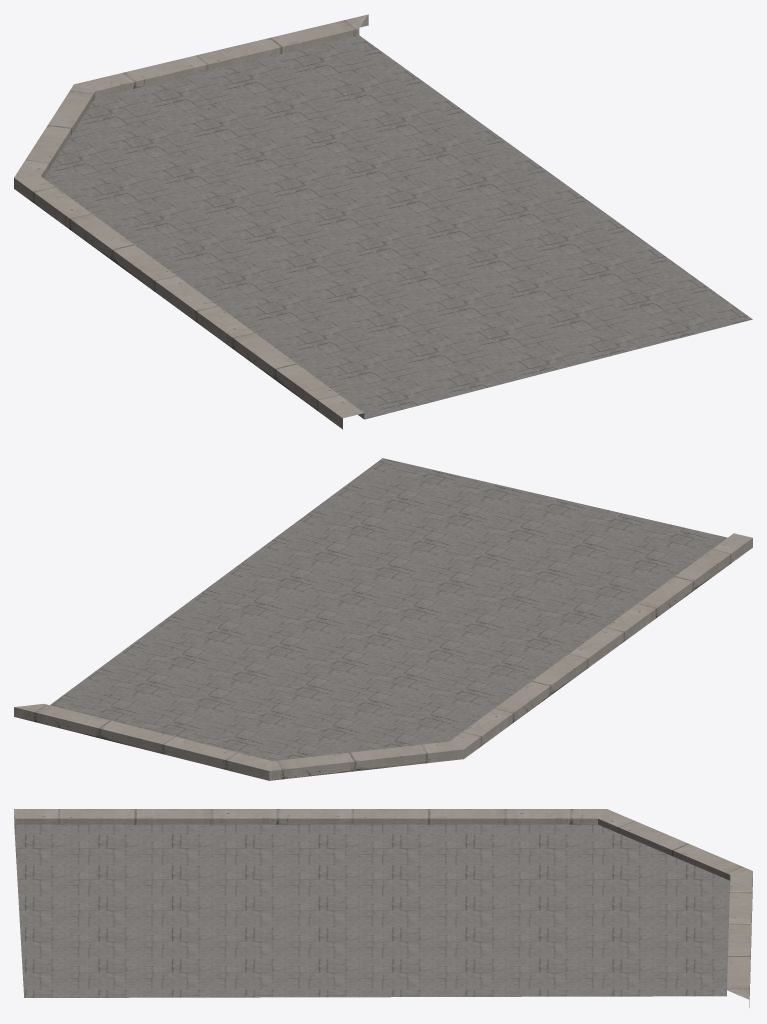
The model's file is TownGroundTile_W.fbx.
The picture shows the model from 3 angles, top to bottom: view 1: azimuth 30°, elevation 25°; view 2: azimuth 150°, elevation 25°; view 3: azimuth 270°, elevation 25°; orthographic projection. The views are drawn at different scales.
Parts seen in each view (by area): view 1: TownGroundTile_W; view 2: TownGroundTile_W; view 3: TownGroundTile_W.
Boxes of the visible parts, x1=… form: TownGroundTile_W: x1=14, y1=14, x2=752, y2=429; TownGroundTile_W: x1=14, y1=458, x2=752, y2=780; TownGroundTile_W: x1=14, y1=809, x2=752, y2=1007.
Size of the model in its own units: 1388 by 33.99 by 2273.
Materials: 2 (2 with a texture image).
